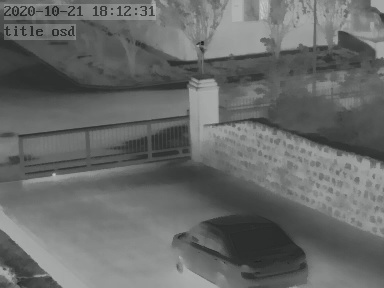vehicle: (173, 207, 309, 288)
